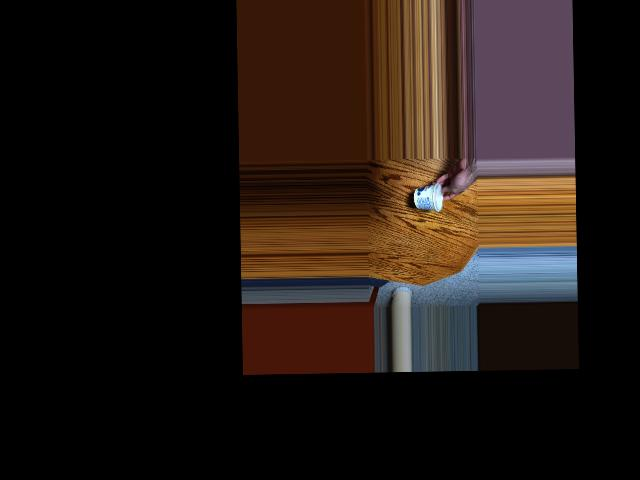cotage: (418, 185, 448, 214)
